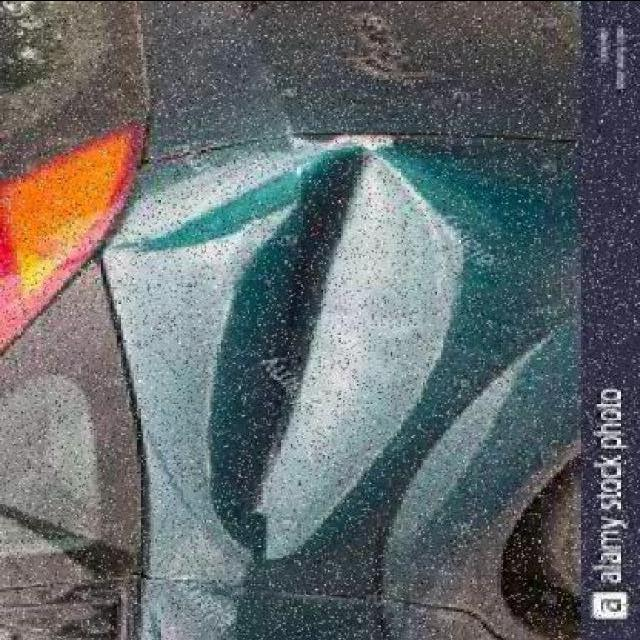quaterpanel-dent: (140, 151, 587, 584)
